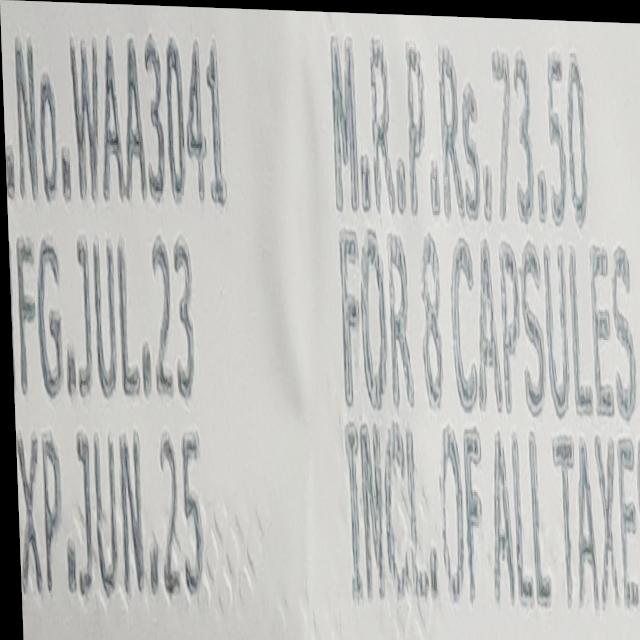sentence: (337, 220, 635, 433), (340, 412, 640, 607), (330, 31, 589, 235), (2, 22, 225, 211), (13, 426, 214, 608), (7, 232, 192, 397)
